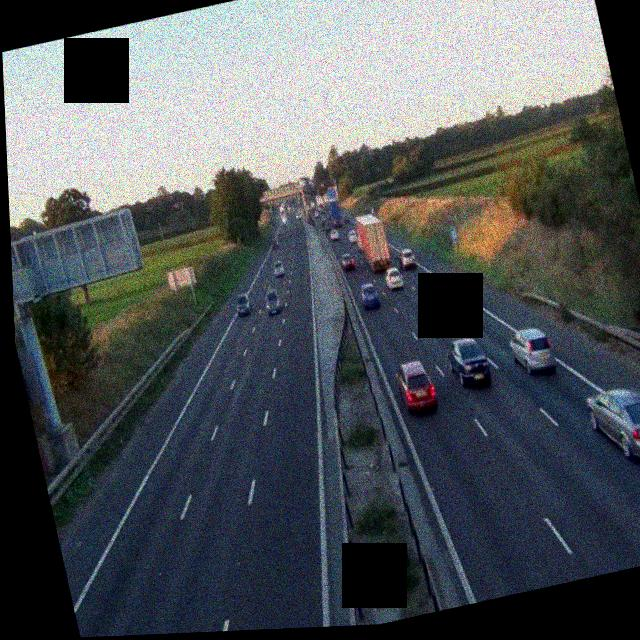car: (584, 377, 640, 470), (505, 323, 557, 378), (443, 334, 493, 390), (393, 358, 438, 414), (434, 270, 469, 311), (358, 281, 382, 311), (262, 286, 283, 315), (384, 266, 406, 292), (232, 290, 253, 315), (398, 248, 418, 270), (340, 251, 356, 272), (270, 257, 286, 276), (348, 229, 359, 245), (328, 228, 340, 241), (271, 239, 279, 250)
truck: (353, 208, 392, 270), (327, 193, 345, 224), (278, 204, 290, 225)
